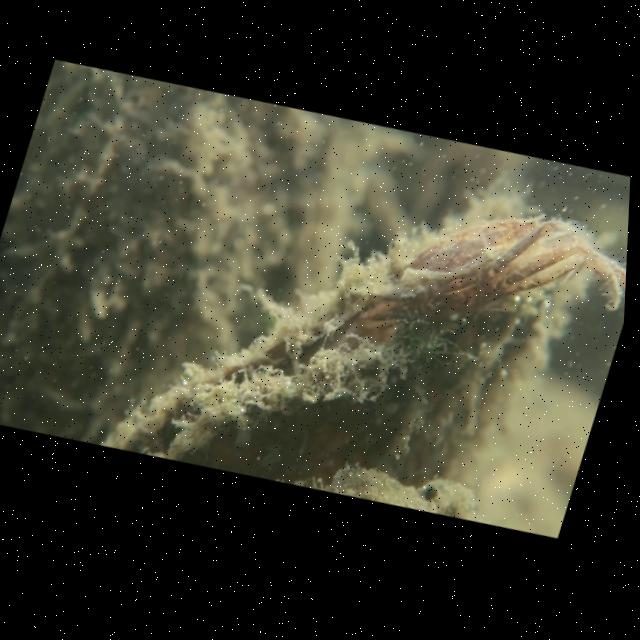Oyster-Open: (106, 210, 608, 474)
